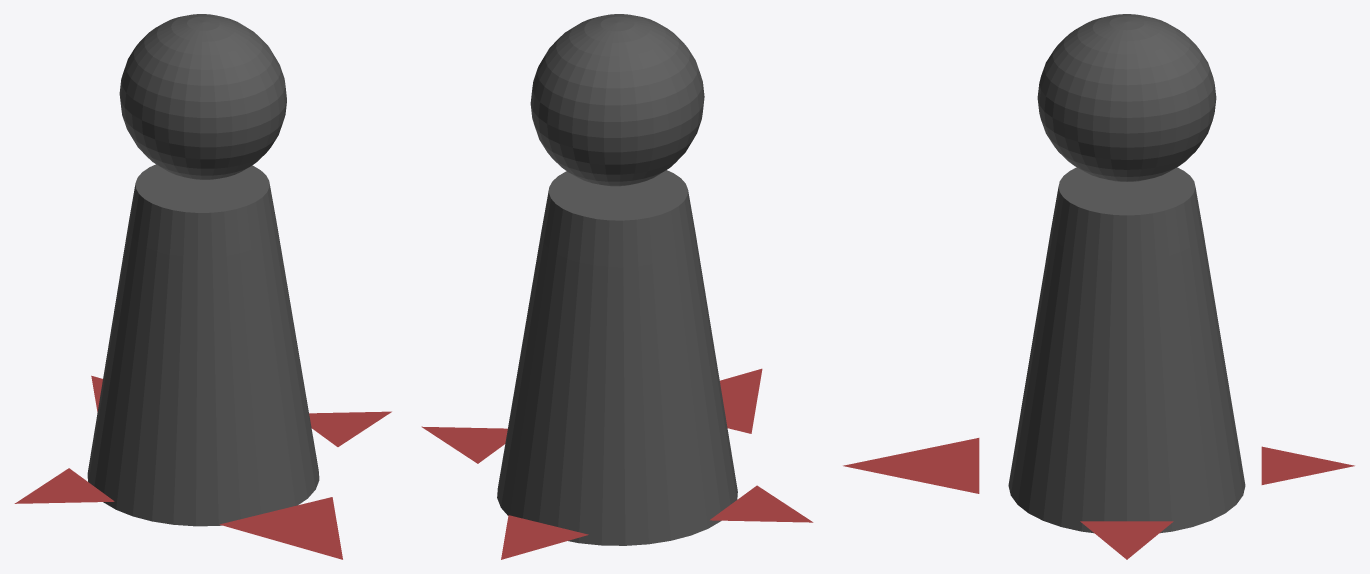
Rendered from char_glitched.fbx.
3 views of the same model, side by side, from view 1: azimuth 30°, elevation 25°; view 2: azimuth 150°, elevation 25°; view 3: azimuth 270°, elevation 25° (orthographic). The views are drawn at different scales.
Parts seen in each view (by area): view 1: Body.001; view 2: Body.001; view 3: Body.001.
Part boxes in pixels (left/top/right/bottom): Body.001: left=14, top=14, right=391, bottom=559; Body.001: left=421, top=14, right=813, bottom=559; Body.001: left=843, top=14, right=1354, bottom=559.
Size of the model in its own units: 1.3 by 1.5 by 1.5.
